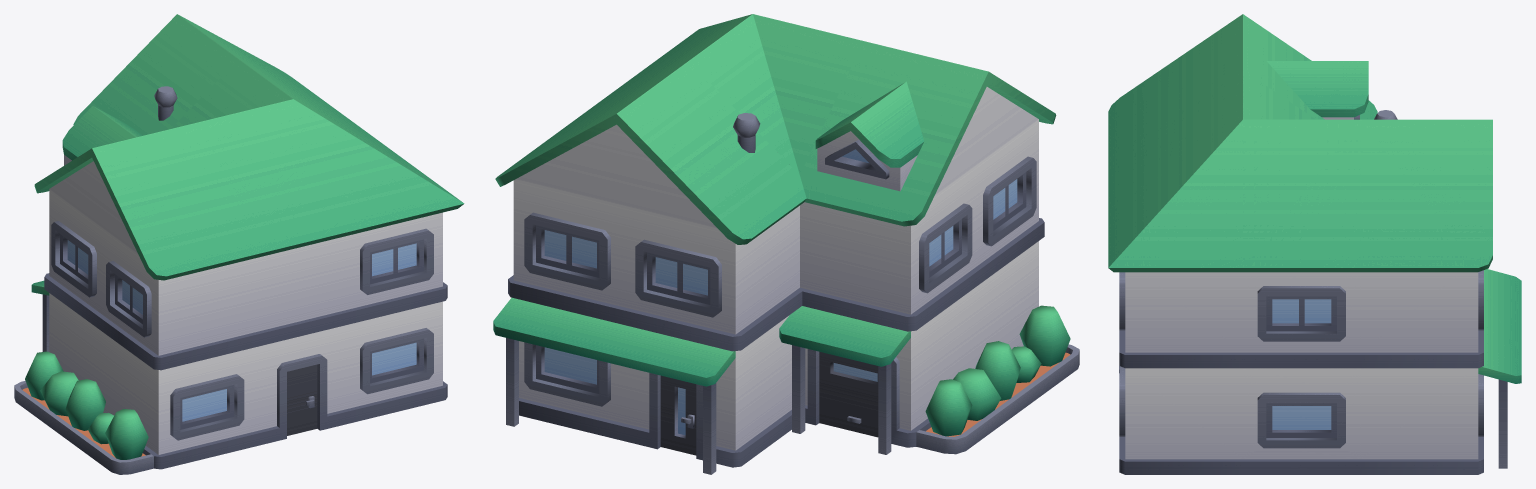
The model's file is building-type-f.draco.glb.
3 renders of one model, left to right at view 1: azimuth 30°, elevation 25°; view 2: azimuth 150°, elevation 25°; view 3: azimuth 270°, elevation 25°, orthographic. The views are drawn at different scales.
Visible parts, largest first — view 1: building-type-f; view 2: building-type-f; view 3: building-type-f.
Part boxes in pixels (left/top/right/bottom): building-type-f: left=14, top=14, right=464, bottom=474; building-type-f: left=493, top=14, right=1079, bottom=474; building-type-f: left=1108, top=14, right=1521, bottom=474.
Bounding box in the file's own units: 1.43 × 1.14 × 1.41.
1 material, 1 textured.
